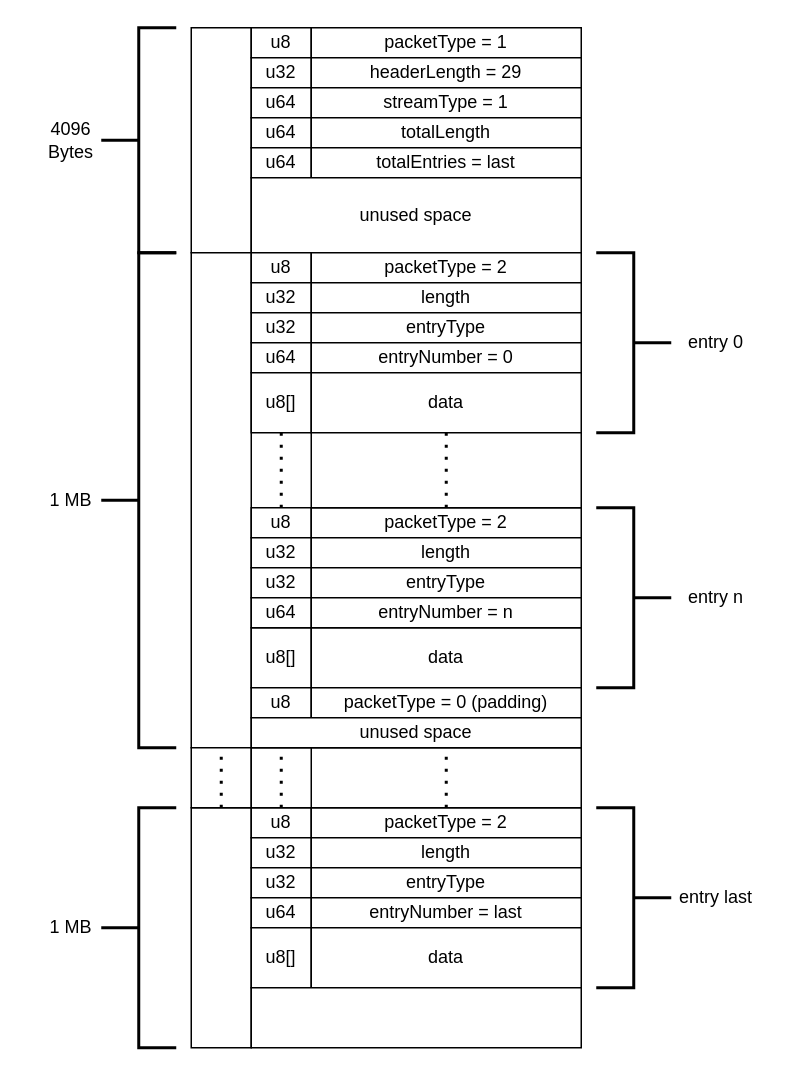
This 786x1074 diagram has some shape labels left out. Each missing label, with the box of its shape:
available space: (250, 986, 581, 1048)
Data page 0: (190, 251, 251, 748)
Data page p: (190, 806, 251, 1048)
Header: (190, 26, 251, 253)
